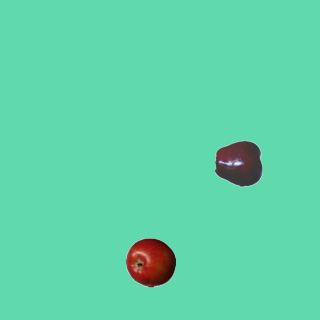Apple Braeburn: (125, 237, 175, 287)
Apple Red Delicious: (214, 138, 264, 188)
